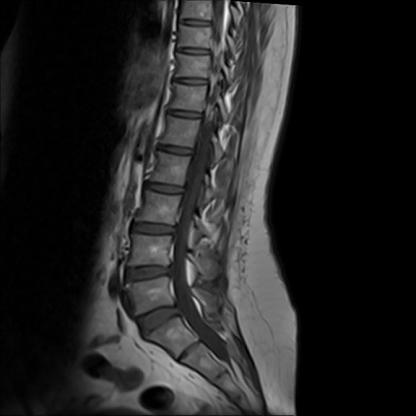Disc Bulgerotation: (138, 304, 183, 331), (125, 263, 172, 283), (132, 220, 178, 239)
